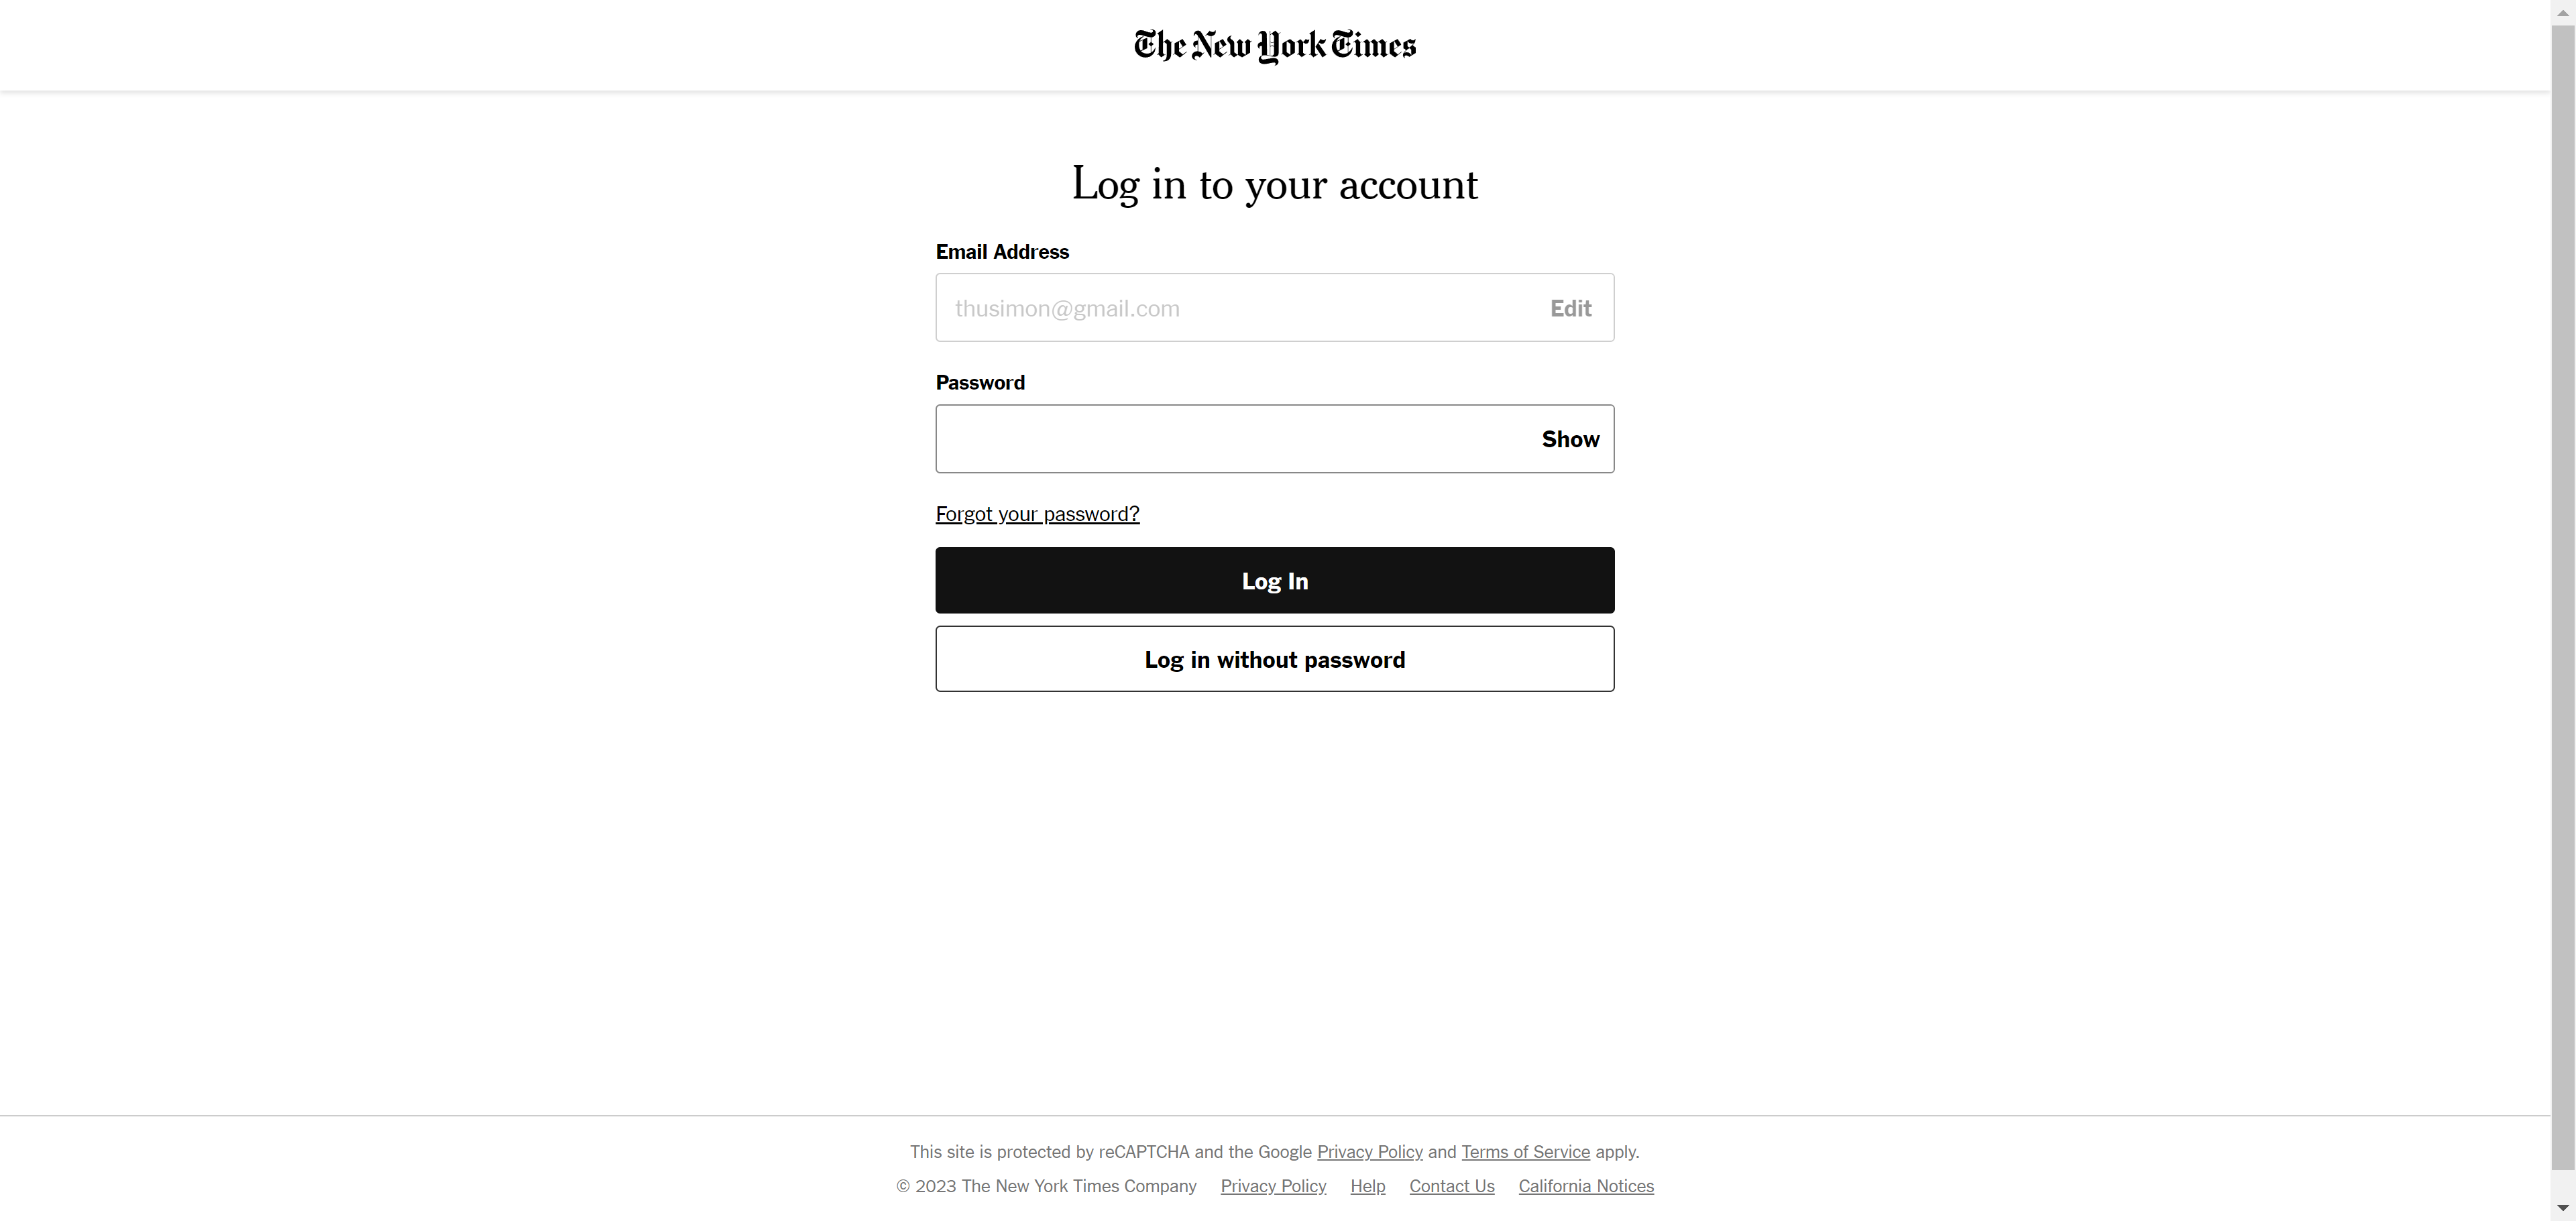login_button: (935, 546, 1615, 615)
login_form: (928, 235, 1621, 700)
